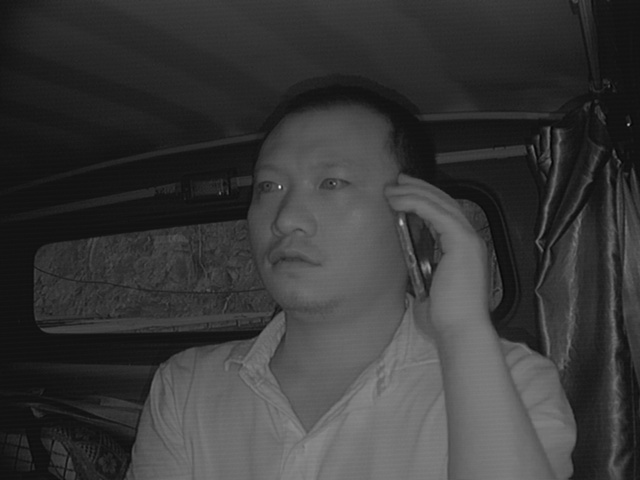hand: (382, 164, 485, 323)
